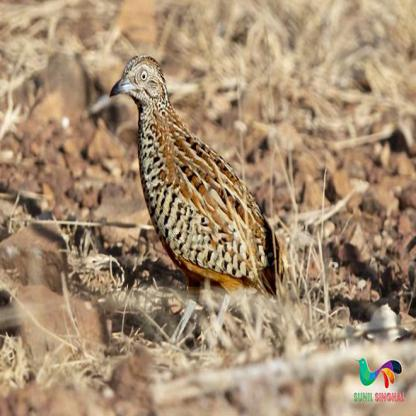Burung: (109, 55, 284, 295)
